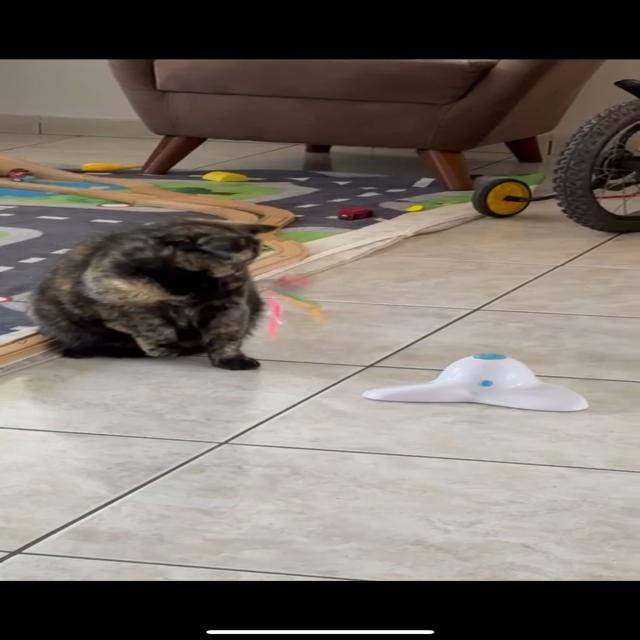authorized: (25, 217, 278, 371)
